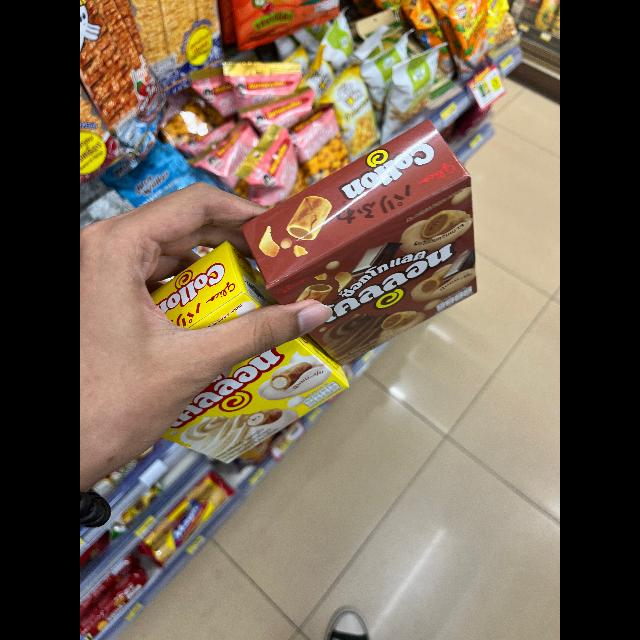cardboard_box: (229, 116, 489, 396), (136, 237, 344, 467)
